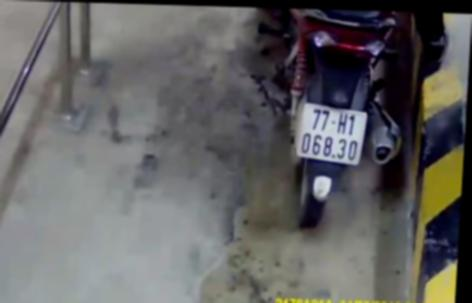License_Plate: (290, 96, 371, 174)
